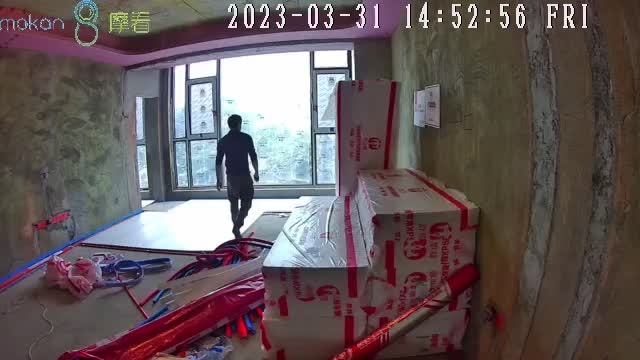people: (215, 115, 259, 238)
window: (170, 48, 350, 190)
